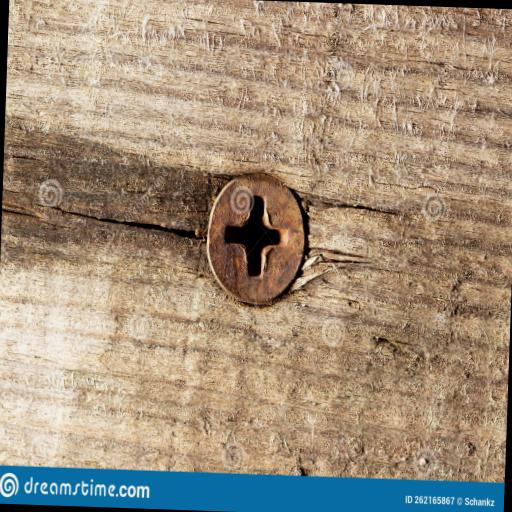Phillips: (204, 164, 309, 308)
